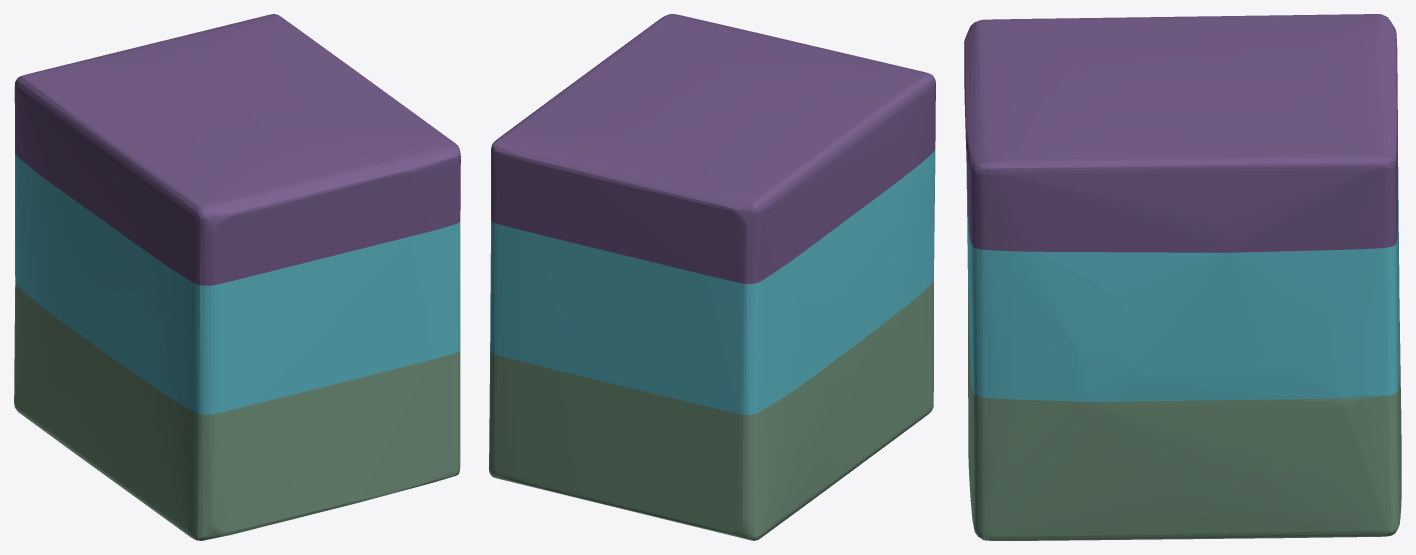
Rendered from coacd_collision.obj.
3 views of the same model, side by side, from view 1: azimuth 30°, elevation 25°; view 2: azimuth 150°, elevation 25°; view 3: azimuth 270°, elevation 25° (orthographic). The views are drawn at different scales.
Parts seen in each view (by area): view 1: geometry_1, geometry_2, geometry_0; view 2: geometry_1, geometry_2, geometry_0; view 3: geometry_1, geometry_2, geometry_0.
Boxes of the visible parts, x1=… form: geometry_1: x1=14, y1=14, x2=460, y2=285; geometry_2: x1=15, y1=154, x2=460, y2=414; geometry_0: x1=14, y1=283, x2=460, y2=540; geometry_1: x1=491, y1=14, x2=935, y2=284; geometry_2: x1=490, y1=150, x2=935, y2=414; geometry_0: x1=489, y1=281, x2=933, y2=540; geometry_1: x1=964, y1=14, x2=1397, y2=252; geometry_2: x1=966, y1=160, x2=1399, y2=401; geometry_0: x1=968, y1=285, x2=1401, y2=540.
Size of the model in its own units: 80.37 by 93.73 by 95.39.
